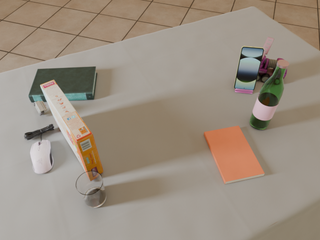book: (204, 126, 264, 184), (28, 67, 97, 103)
bottle: (249, 60, 289, 130)
box: (40, 80, 103, 174)
cup: (76, 171, 106, 208)
mouse: (30, 140, 53, 174)
phone: (234, 46, 264, 90)
toy_car: (257, 37, 287, 82), (34, 101, 47, 116)
